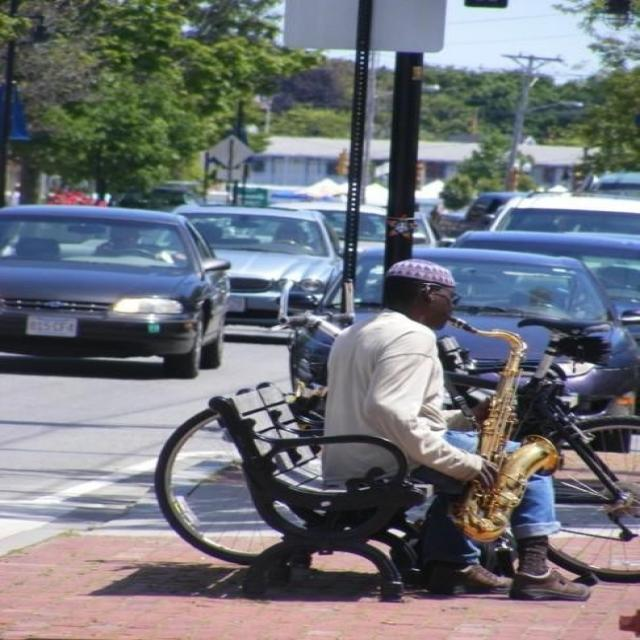saxophone: (439, 316, 563, 543)
